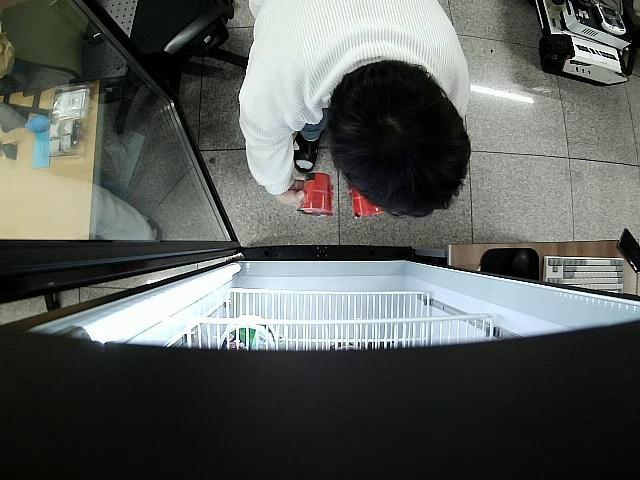02_shinRamen_S: (300, 173, 334, 217)
